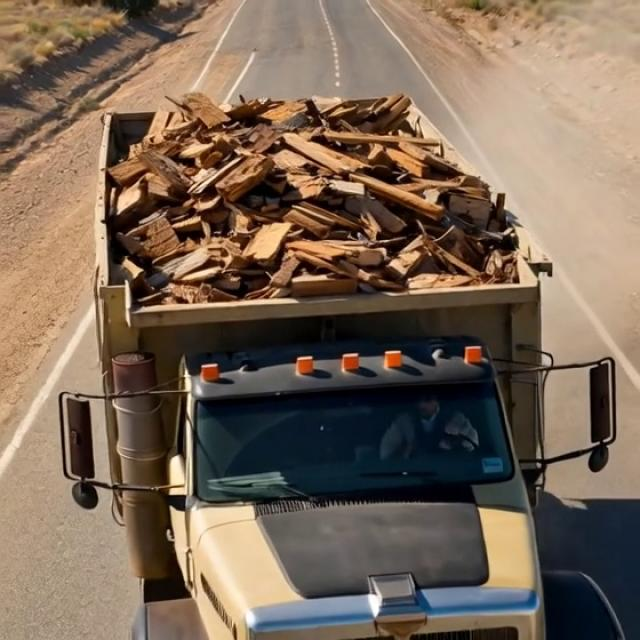Box: (82, 96, 559, 296)
Truck: (49, 107, 626, 634)
